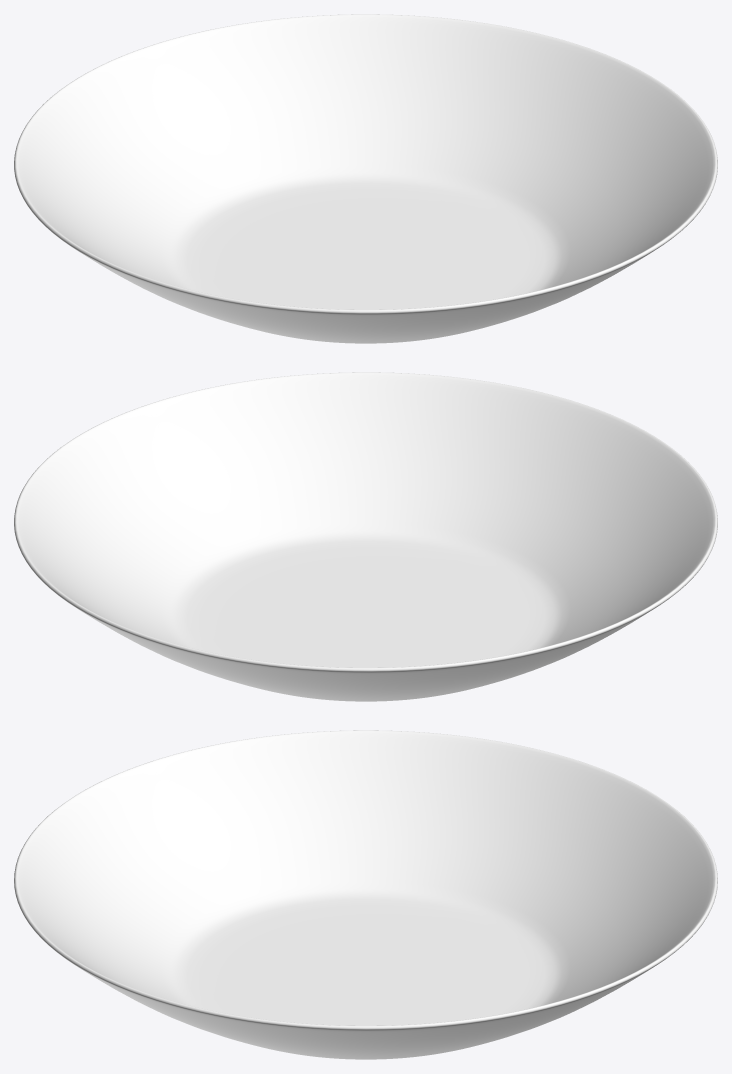
The model's file is Dish.gltf.
The picture shows the model from 3 angles, top to bottom: view 1: azimuth 30°, elevation 25°; view 2: azimuth 150°, elevation 25°; view 3: azimuth 270°, elevation 25°; orthographic projection.
Parts seen in each view (by area): view 1: Dish; view 2: Dish; view 3: Dish.
Boxes of the visible parts, <box> form: Dish: <box>14,14,717,343</box>; Dish: <box>14,372,717,701</box>; Dish: <box>14,730,717,1059</box>.
Bounding box in the file's own units: 1.4 × 0.2222 × 1.4.
1 material, 1 textured.
